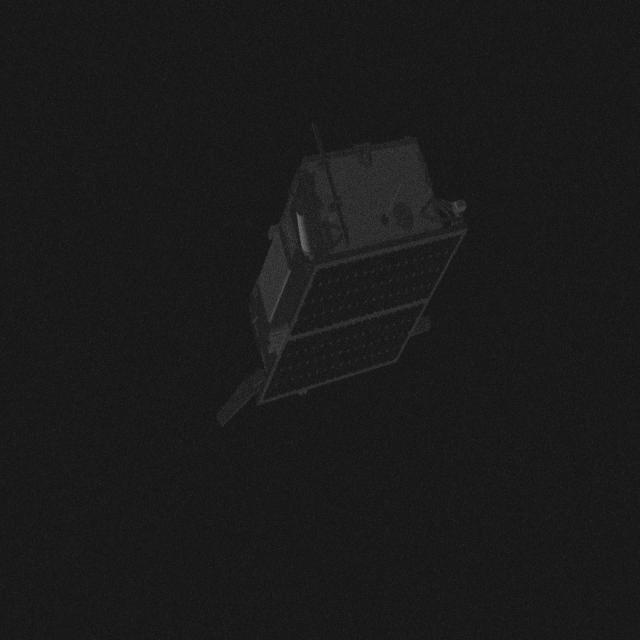satellite: (212, 130, 482, 442)
